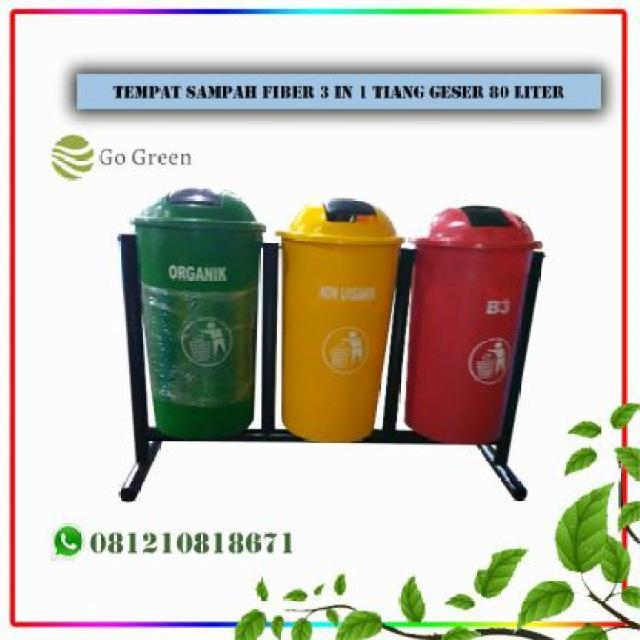garbage container: (124, 181, 267, 450), (267, 193, 403, 461), (408, 201, 545, 457)
